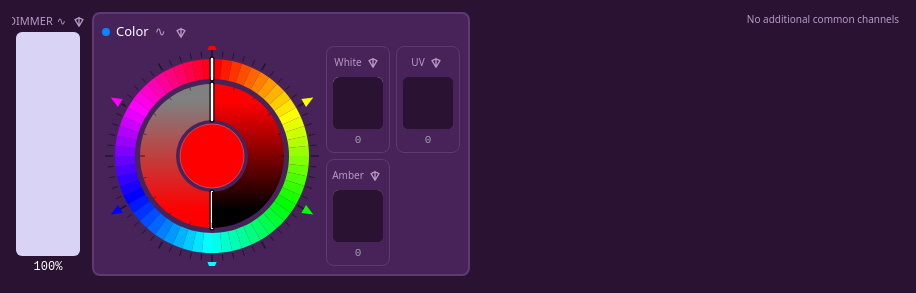
it: colour card header › dragging the hue ring shows "Hue N°" and it persists after release
Press the mouse on the slider with class "color-wheel" at [212, 156], box [102,46,322,266]
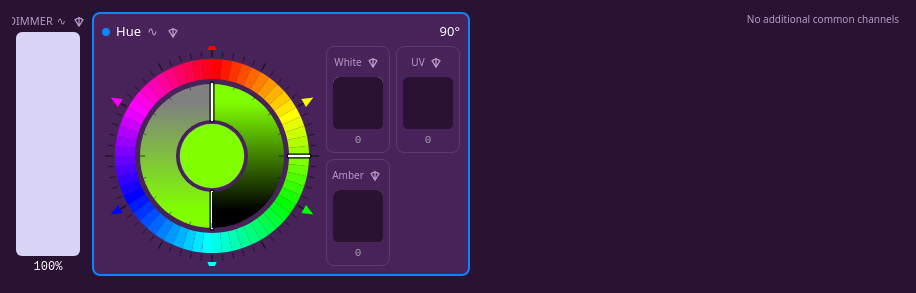
Result: the element with test id "colour-card-header" shows "Hue" at [116,22,141,40]
